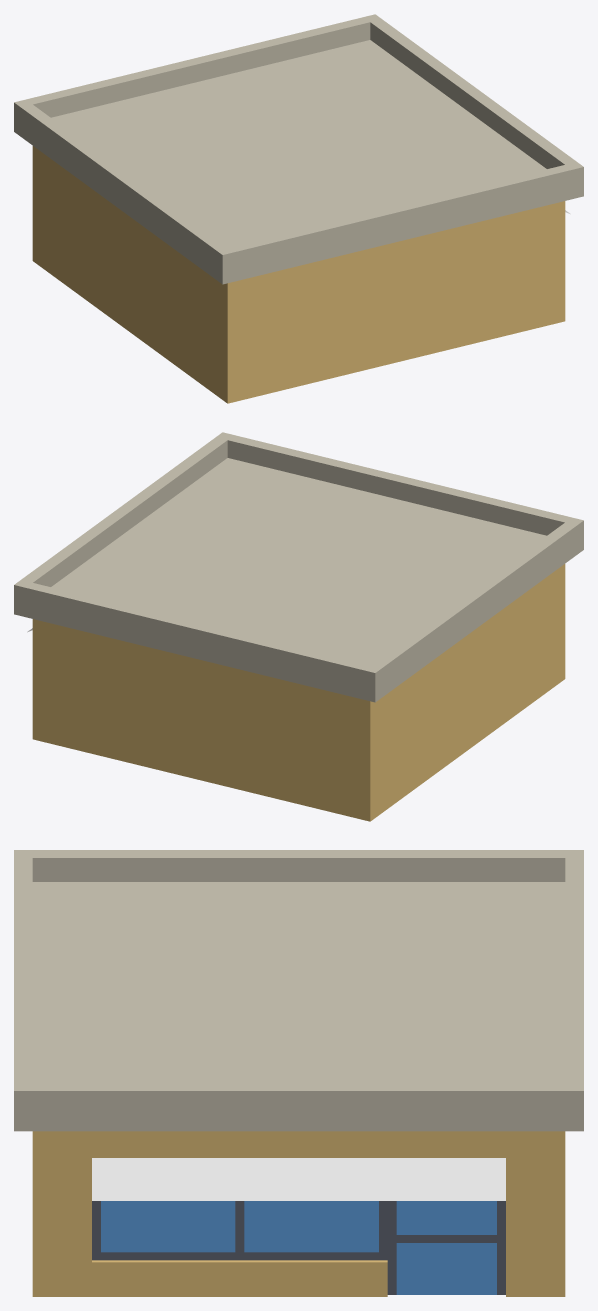
The model's file is cafe_y1.fbx.
3 views of the same model, one above another, from view 1: azimuth 30°, elevation 25°; view 2: azimuth 150°, elevation 25°; view 3: azimuth 270°, elevation 25° (orthographic). The views are drawn at different scales.
Parts seen in each view (by area): view 1: Cafe3.002; view 2: Cafe3.002; view 3: Cafe3.002.
Part boxes in pixels (box(x1,y1,x2,y2)): Cafe3.002: box(14, 14, 583, 403); Cafe3.002: box(14, 432, 583, 821); Cafe3.002: box(14, 850, 583, 1296).
Bounding box in the file's own units: 6712 × 2660 × 6424.
